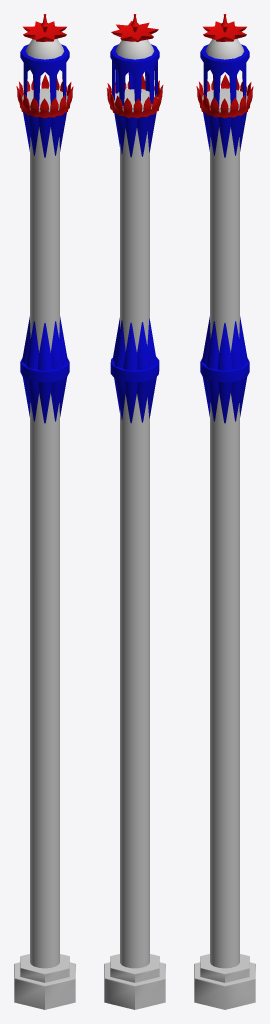
File: Dom_znati_minaret_visok.fbx
3 renders of one model, left to right at view 1: azimuth 90°, elevation 25°; view 2: azimuth 210°, elevation 25°; view 3: azimuth 270°, elevation 25°, orthographic.
Visible parts, largest first — view 1: Dom_znati_minaret_visok; view 2: Dom_znati_minaret_visok; view 3: Dom_znati_minaret_visok.
Boxes of the visible parts, x1,y1,x2,y2 form: Dom_znati_minaret_visok: (14,14,75,1009); Dom_znati_minaret_visok: (104,14,165,1009); Dom_znati_minaret_visok: (194,14,255,1009).
Bounding box in the file's own units: 7.24 × 110 × 6.27.
